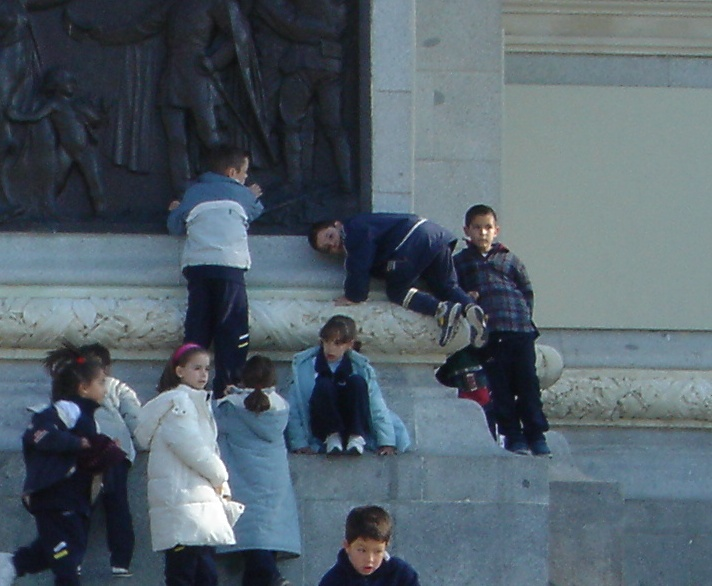person: (454, 202, 551, 454), (178, 145, 264, 400)
